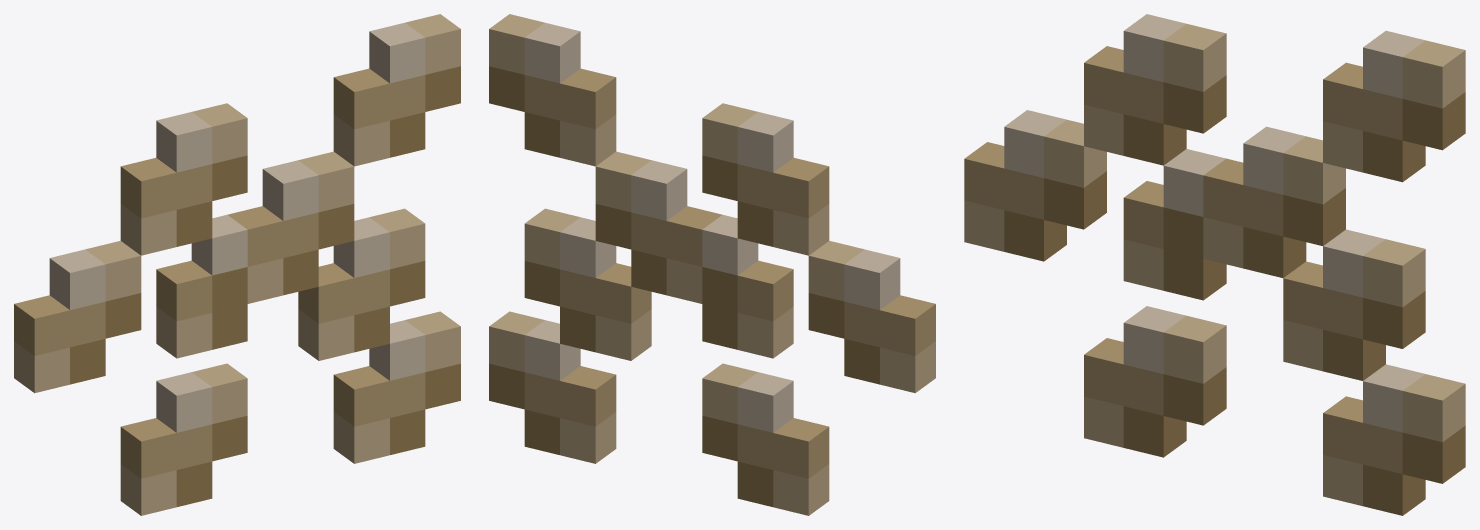
The model's file is wheat_seeds.glb.
3 views of the same model, side by side, from view 1: azimuth 30°, elevation 25°; view 2: azimuth 150°, elevation 25°; view 3: azimuth 330°, elevation 25° (orthographic). The views are drawn at different scales.
Visible parts, largest first — view 1: Mesh_0.002; view 2: Mesh_0.002; view 3: Mesh_0.002.
Part boxes in pixels (x1,y1,x2,y2): Mesh_0.002: (14,14,460,515); Mesh_0.002: (489,14,935,515); Mesh_0.002: (964,14,1465,515).
Bounding box in the file's own units: 12 × 11 × 1.
